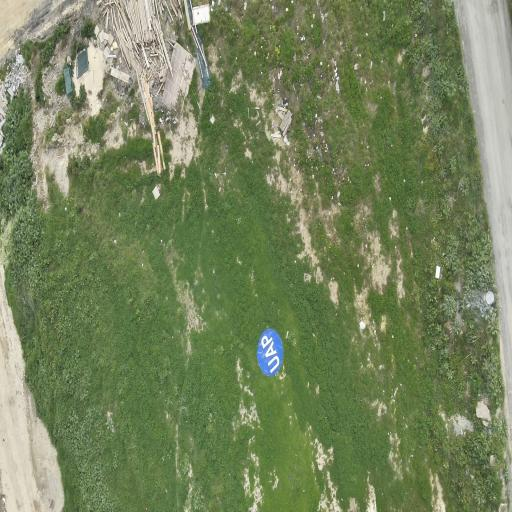UAP: (257, 329, 282, 375)
